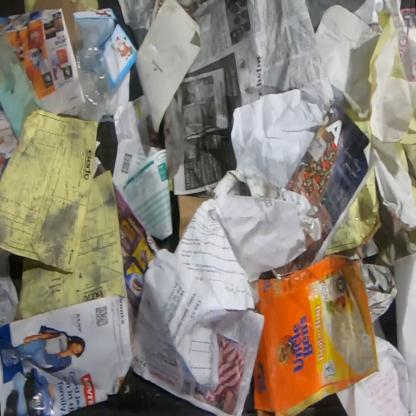cardboard: (248, 238, 382, 415), (176, 191, 214, 244)
soft_plastic: (74, 44, 112, 124)
